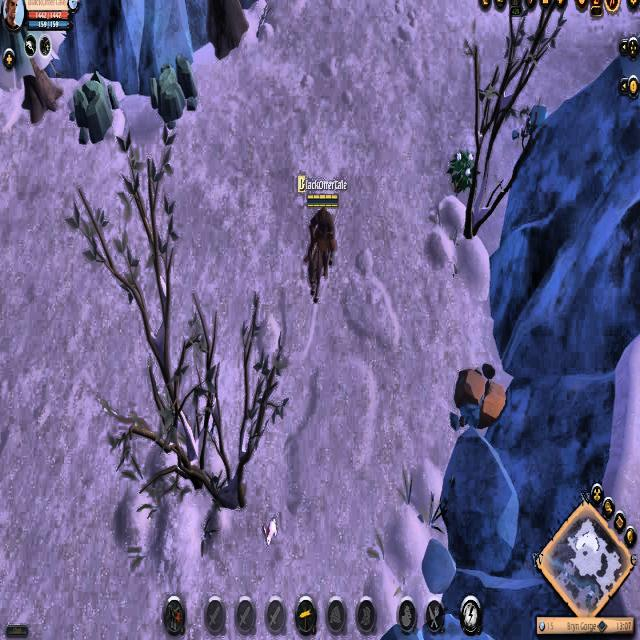limestone: (454, 362, 511, 432)
sandstone: (145, 52, 199, 122), (72, 69, 118, 145)
